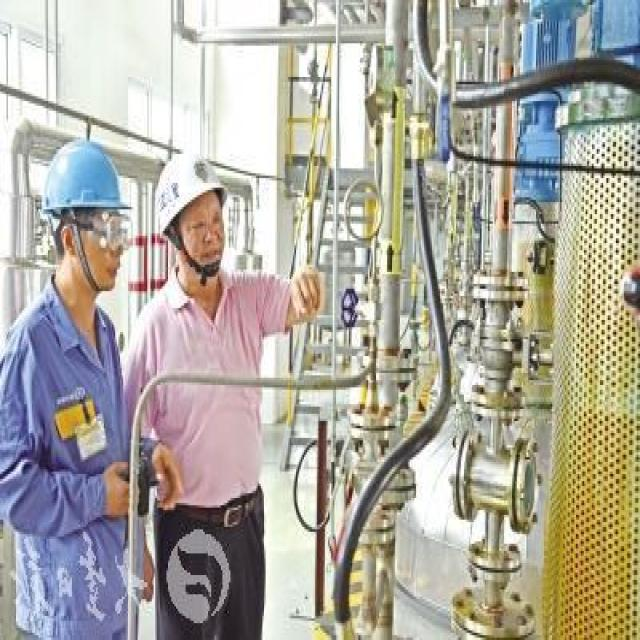helmet: (33, 130, 131, 222), (151, 142, 233, 238)
